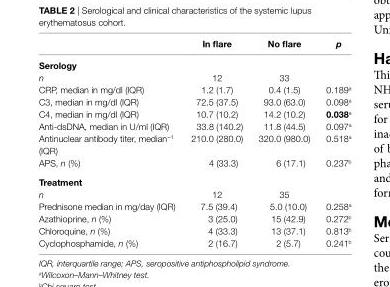table: (37, 37, 350, 247)
table column: (37, 37, 182, 247), (249, 37, 317, 247), (182, 37, 249, 247), (317, 37, 350, 247)
table column header: (37, 37, 350, 53)
table projected row header: (37, 53, 350, 70), (37, 171, 350, 187)
table row: (37, 131, 350, 156), (37, 53, 350, 70), (37, 37, 350, 53), (37, 171, 350, 187), (37, 156, 350, 171), (37, 82, 350, 95), (37, 223, 350, 236), (37, 70, 350, 82), (37, 95, 350, 107), (37, 107, 350, 119), (37, 119, 350, 131), (37, 187, 350, 199), (37, 199, 350, 211), (37, 211, 350, 223), (37, 236, 350, 247)
